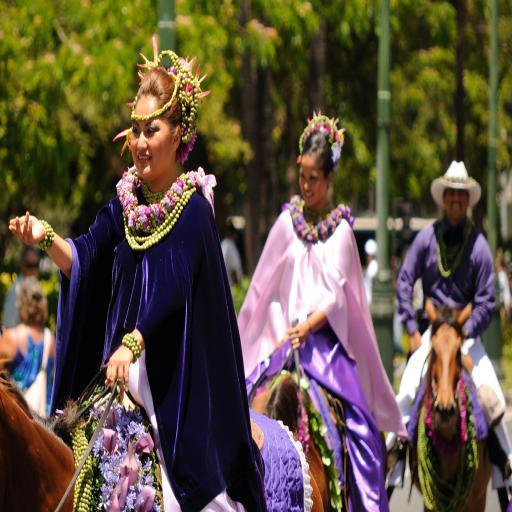horse: (0, 366, 325, 512), (406, 296, 492, 512), (248, 374, 345, 512)
